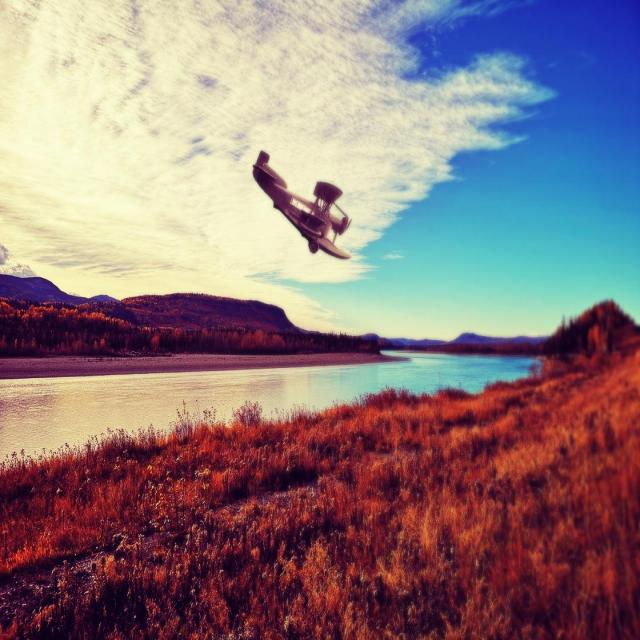airplane: (251, 150, 352, 260)
